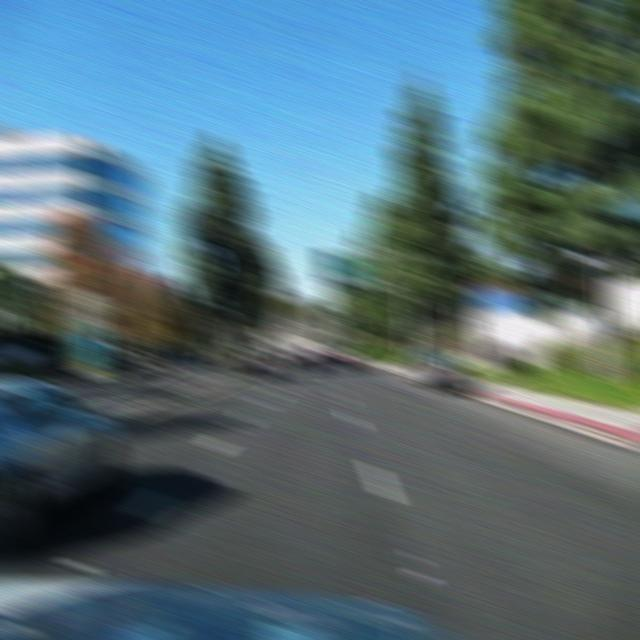speedLimit35: (70, 287, 102, 324)
